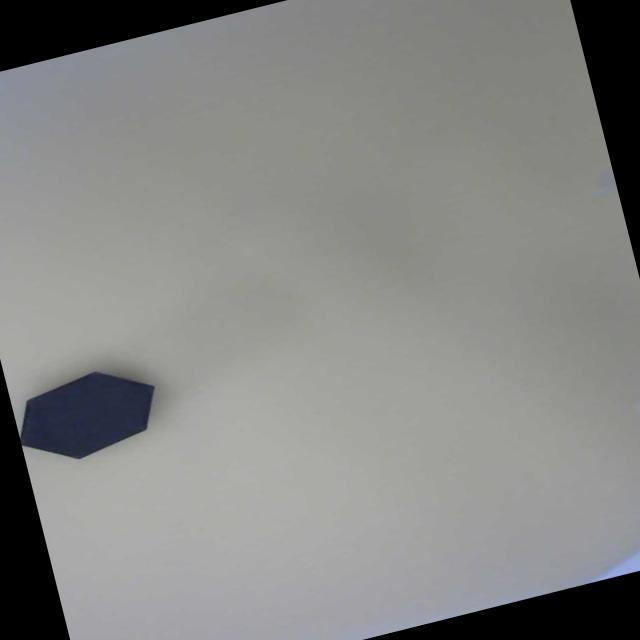hexagon: (26, 363, 159, 463)
